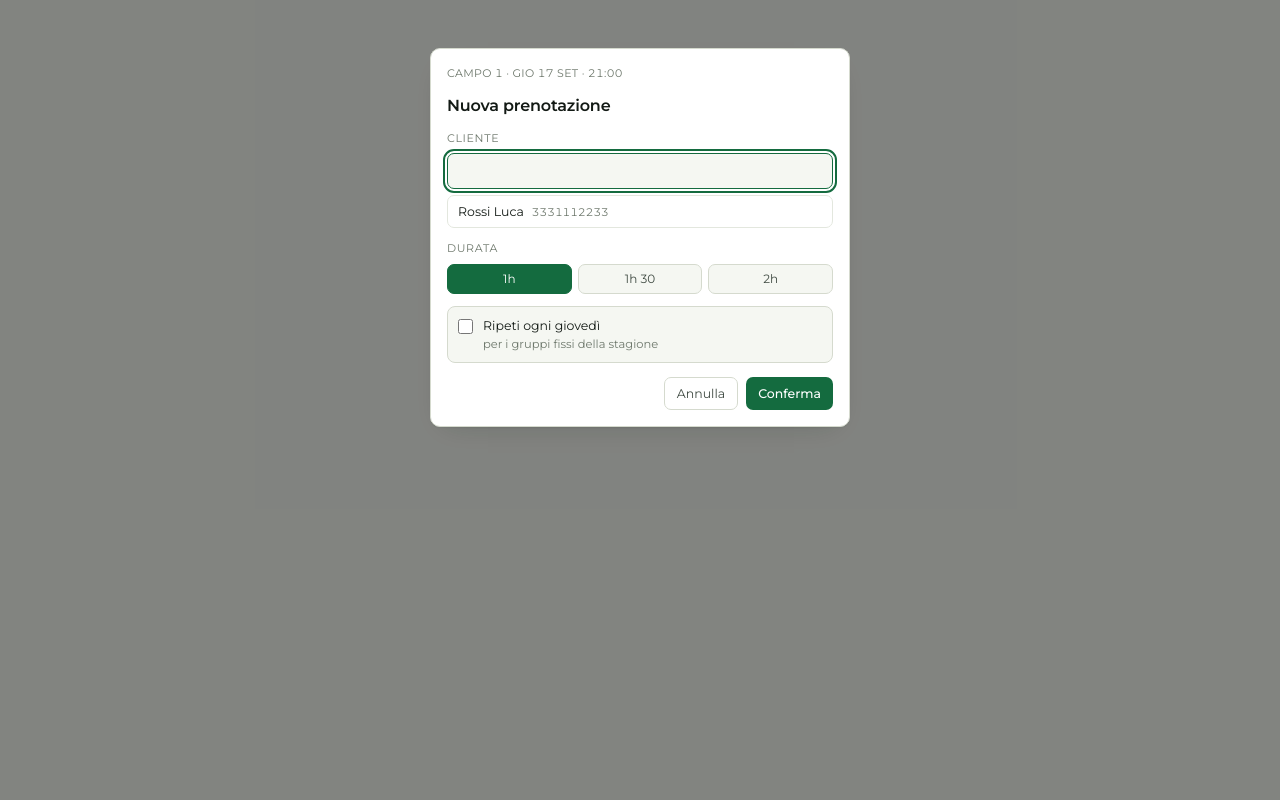
Test case: NewBookingDialog — riconoscere chi telefona › senza nessuno scelto non prenota e dice perché
Type "Rossi" into the field labelled "Cliente". click: (640, 171)
box: [447,153,833,189]
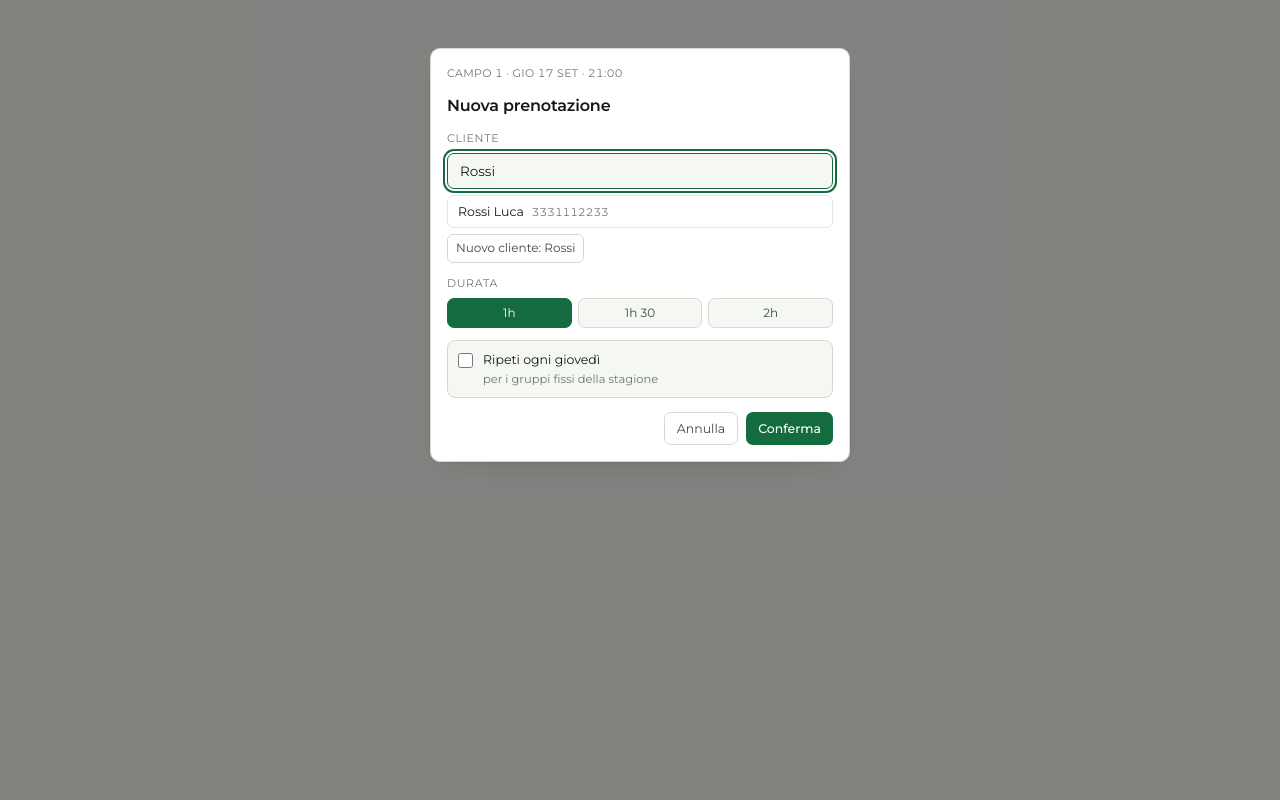
Click the button "Conferma". click: click(790, 428)
box: [746,412,833,445]
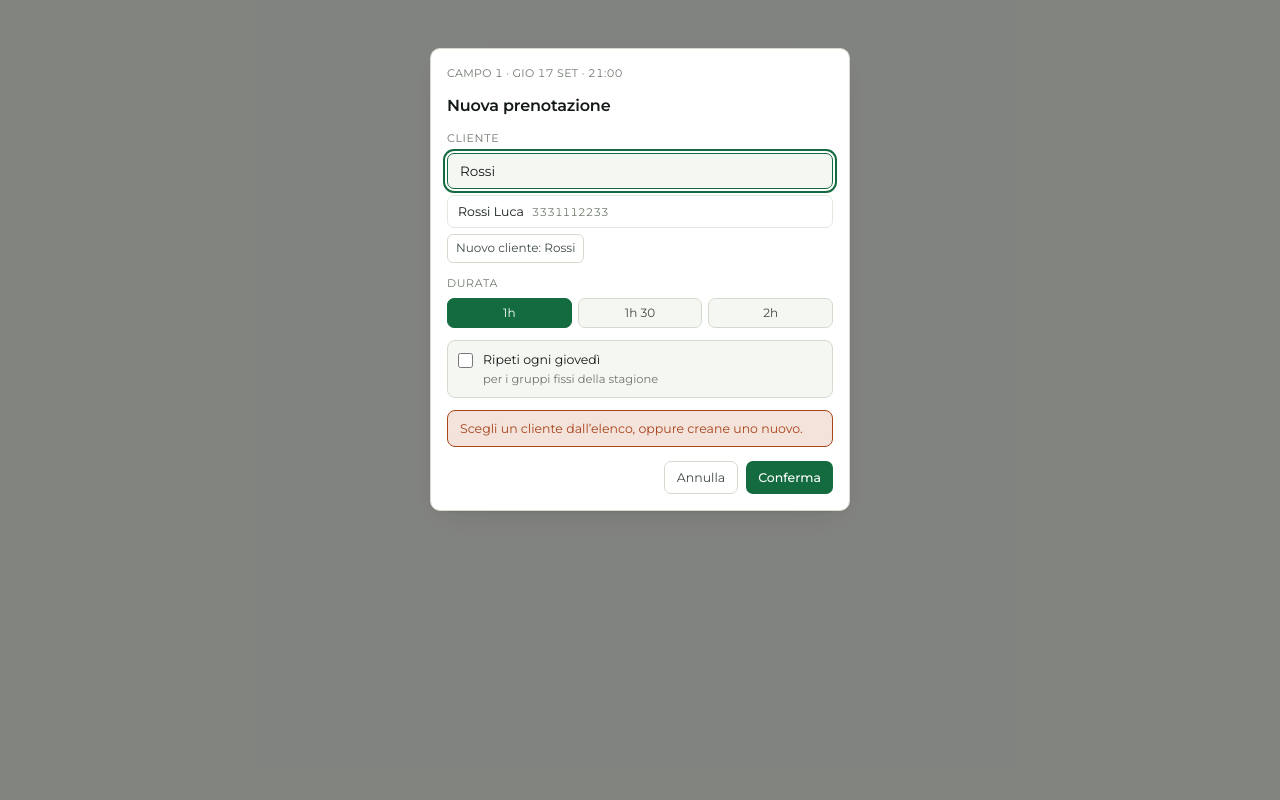
Check: the text "Scegli un cliente dall’elenco, oppure creane uno nuovo." is shown, box [460,419,820,438]
